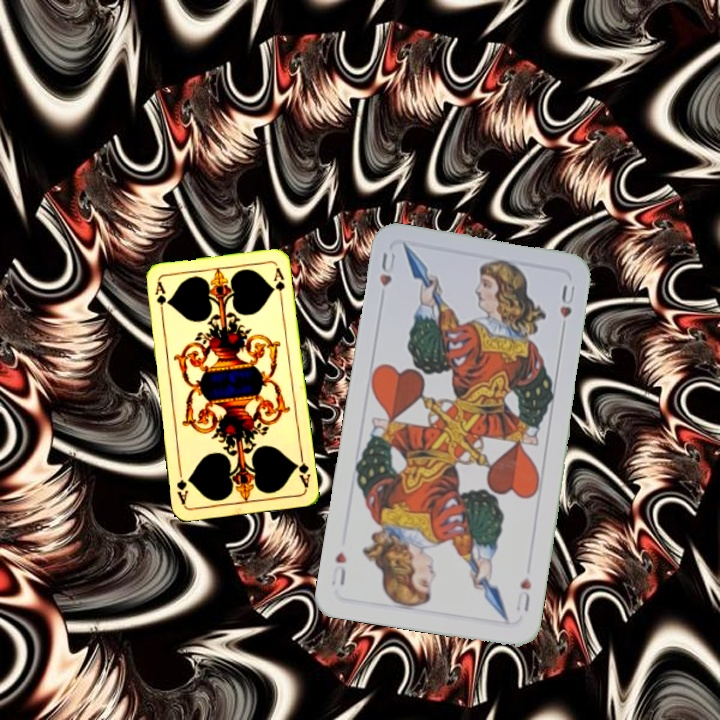GA: (291, 450, 312, 490), (150, 277, 169, 318)
HU: (375, 248, 398, 289), (511, 574, 534, 614)
